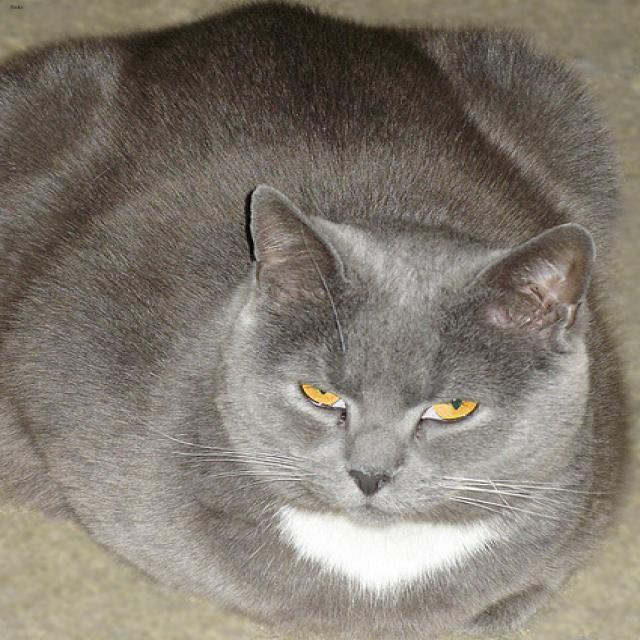British_Shorthair: (221, 184, 592, 526)
